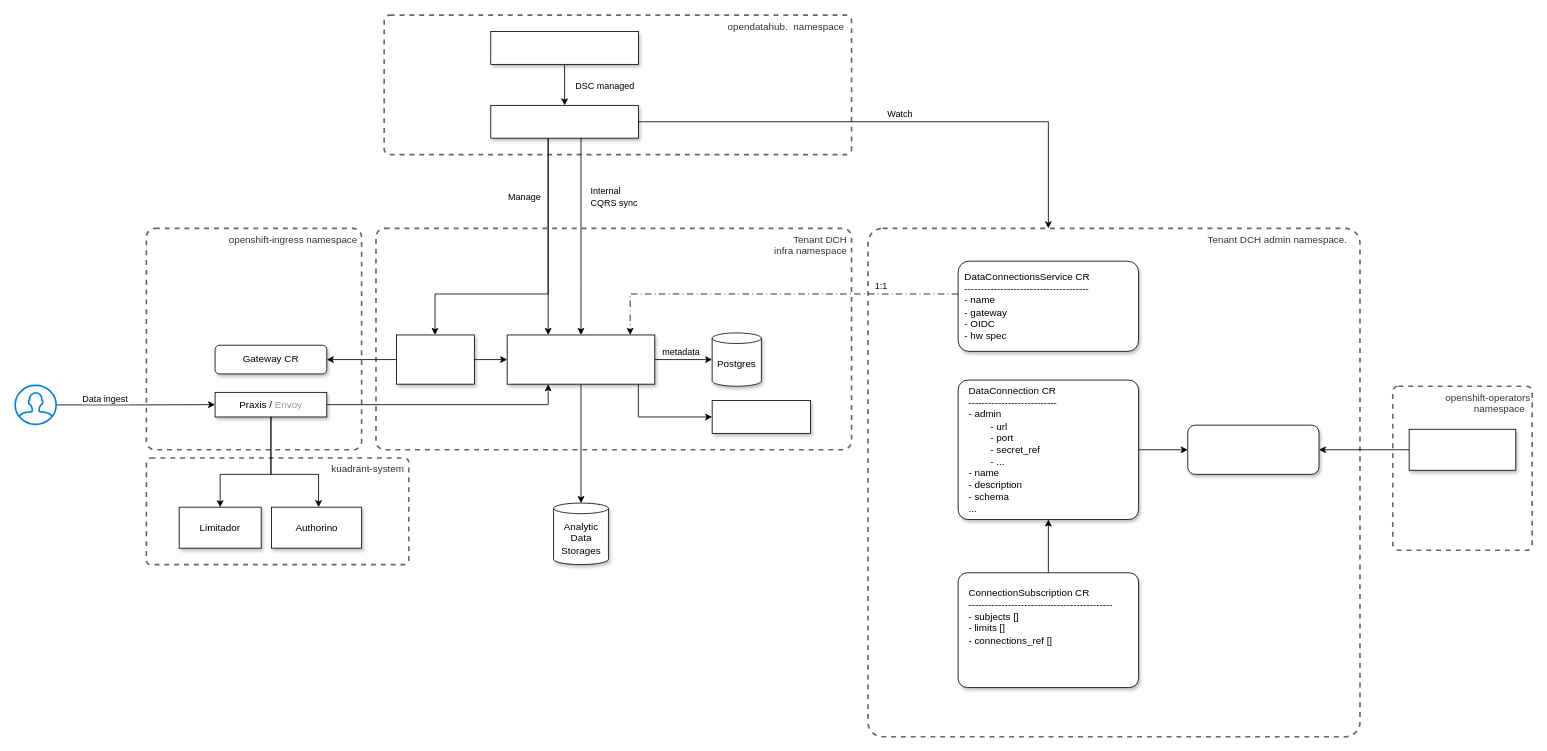
This 1547x751 diagram has some shape labels left out. Each missing label, with the centre of its shape:
"Data-Connections-Hub Service instance" goes at point (581, 360).
"DataConnectionsHub Operator" goes at point (565, 122).
"end-user" goes at point (35, 404).
"HttpRoute CR" goes at point (435, 360).
"OpenDataHub Operator" goes at point (565, 48).
"OTEL Collector" goes at point (761, 417).
"Secret --------- - credentials" goes at point (1254, 450).
"Vault VSO" goes at point (1463, 450).
